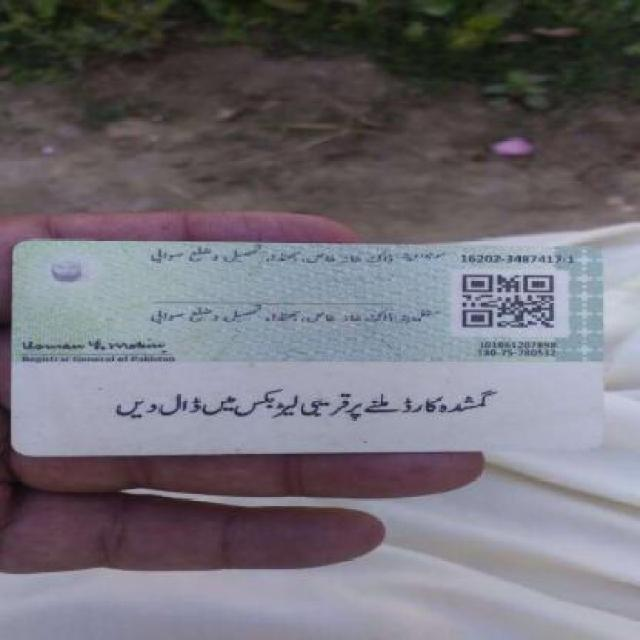Back: (3, 231, 612, 449)
